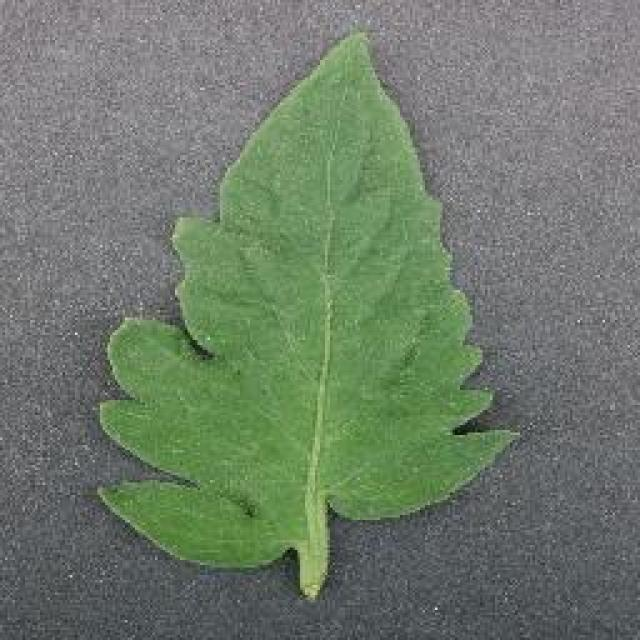Healthy: (88, 25, 530, 617)
